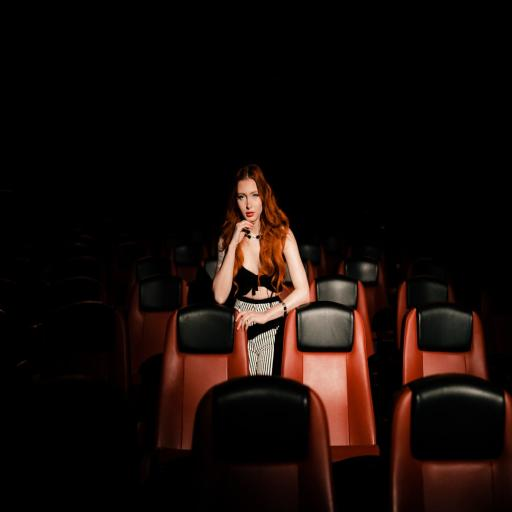face: (238, 179, 262, 222)
